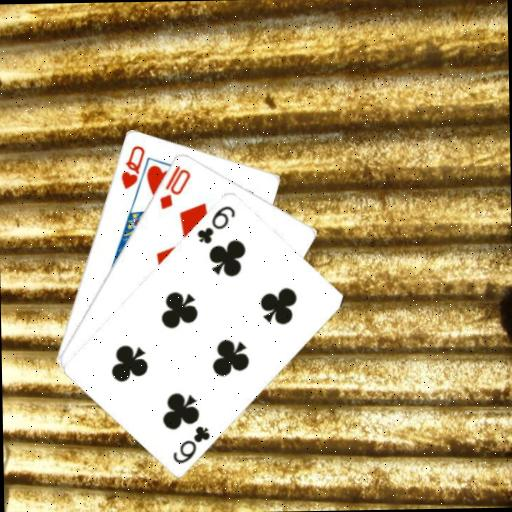10D: (156, 162, 193, 211)
6C: (194, 202, 238, 245), (169, 422, 212, 465)
QH: (117, 141, 147, 190)
